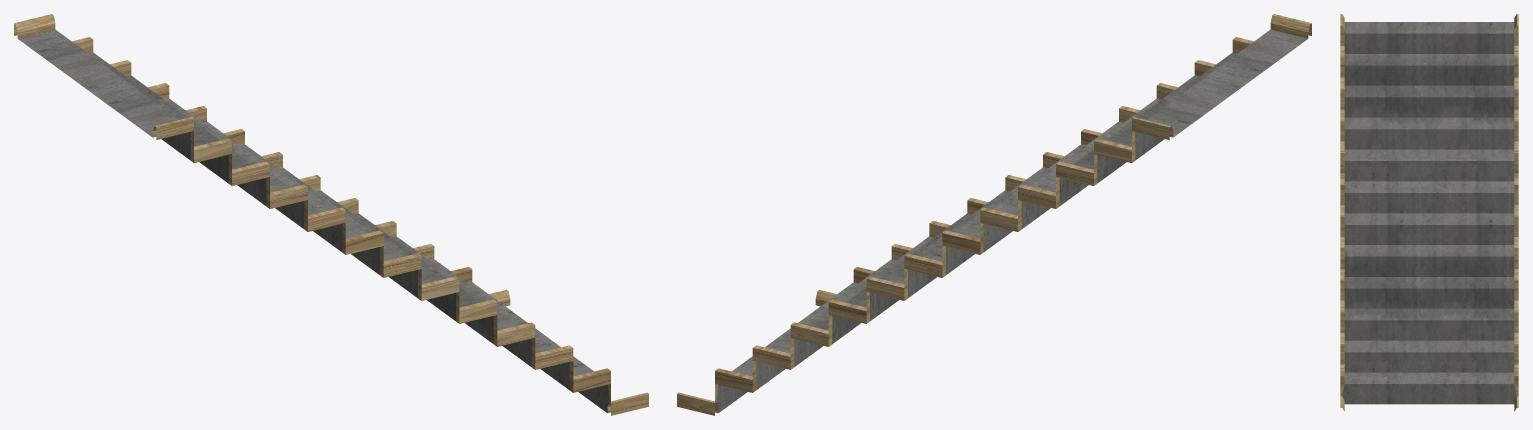
File: Stairs002.FBX
The picture shows the model from 3 angles, left to right: view 1: azimuth 30°, elevation 25°; view 2: azimuth 150°, elevation 25°; view 3: azimuth 270°, elevation 25°; orthographic projection. The views are drawn at different scales.
Parts seen in each view (by area): view 1: Stairs002; view 2: Stairs002; view 3: Stairs002.
Boxes of the visible parts, bbox=[...] form: Stairs002: bbox=[14, 14, 648, 415]; Stairs002: bbox=[677, 14, 1311, 415]; Stairs002: bbox=[1340, 14, 1518, 411].
Size of the model in its own units: 400 by 310 by 200.
